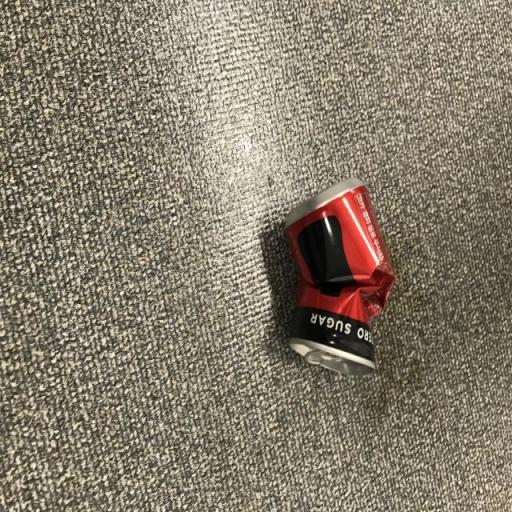metal: (270, 160, 402, 406)
